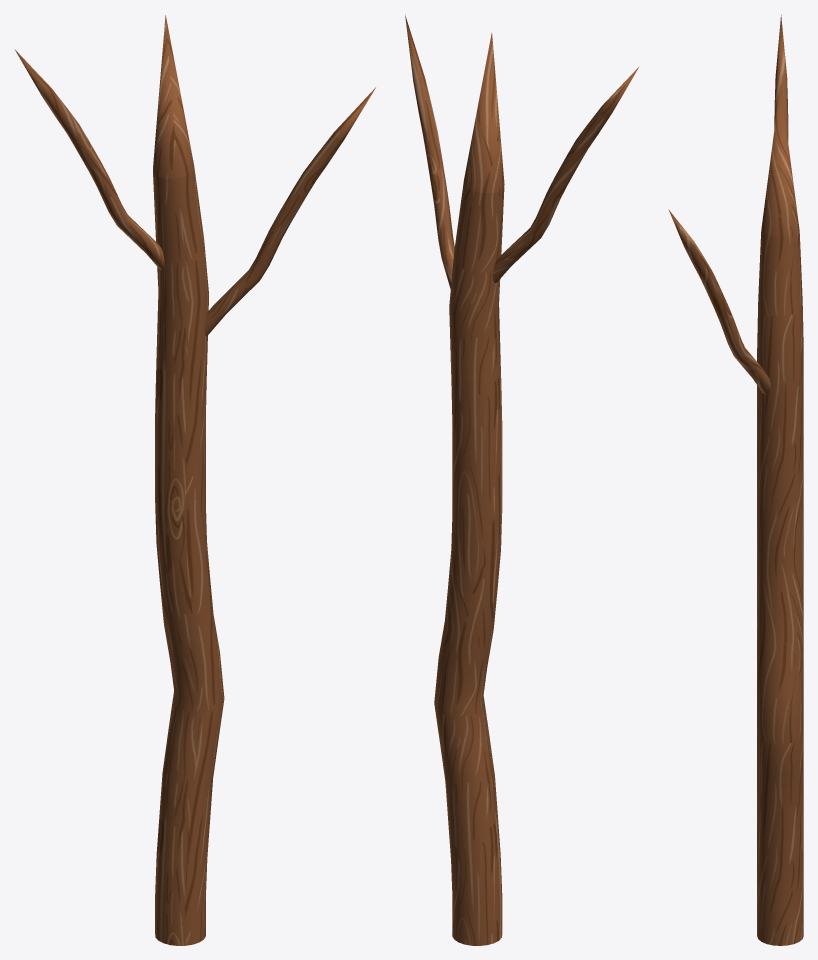
The model's file is Bottom_Tree.fbx.
3 views of the same model, side by side, from view 1: azimuth 30°, elevation 25°; view 2: azimuth 150°, elevation 25°; view 3: azimuth 270°, elevation 25° (orthographic). The views are drawn at different scales.
Visible parts, largest first — view 1: SkinnyTree_Wes; view 2: SkinnyTree_Wes; view 3: SkinnyTree_Wes.
Boxes of the visible parts, x1,y1,x2,y2 form: SkinnyTree_Wes: [14, 15, 375, 945]; SkinnyTree_Wes: [405, 14, 639, 945]; SkinnyTree_Wes: [668, 14, 803, 945].
Size of the model in its own units: 14.59 by 42.92 by 6.22.
